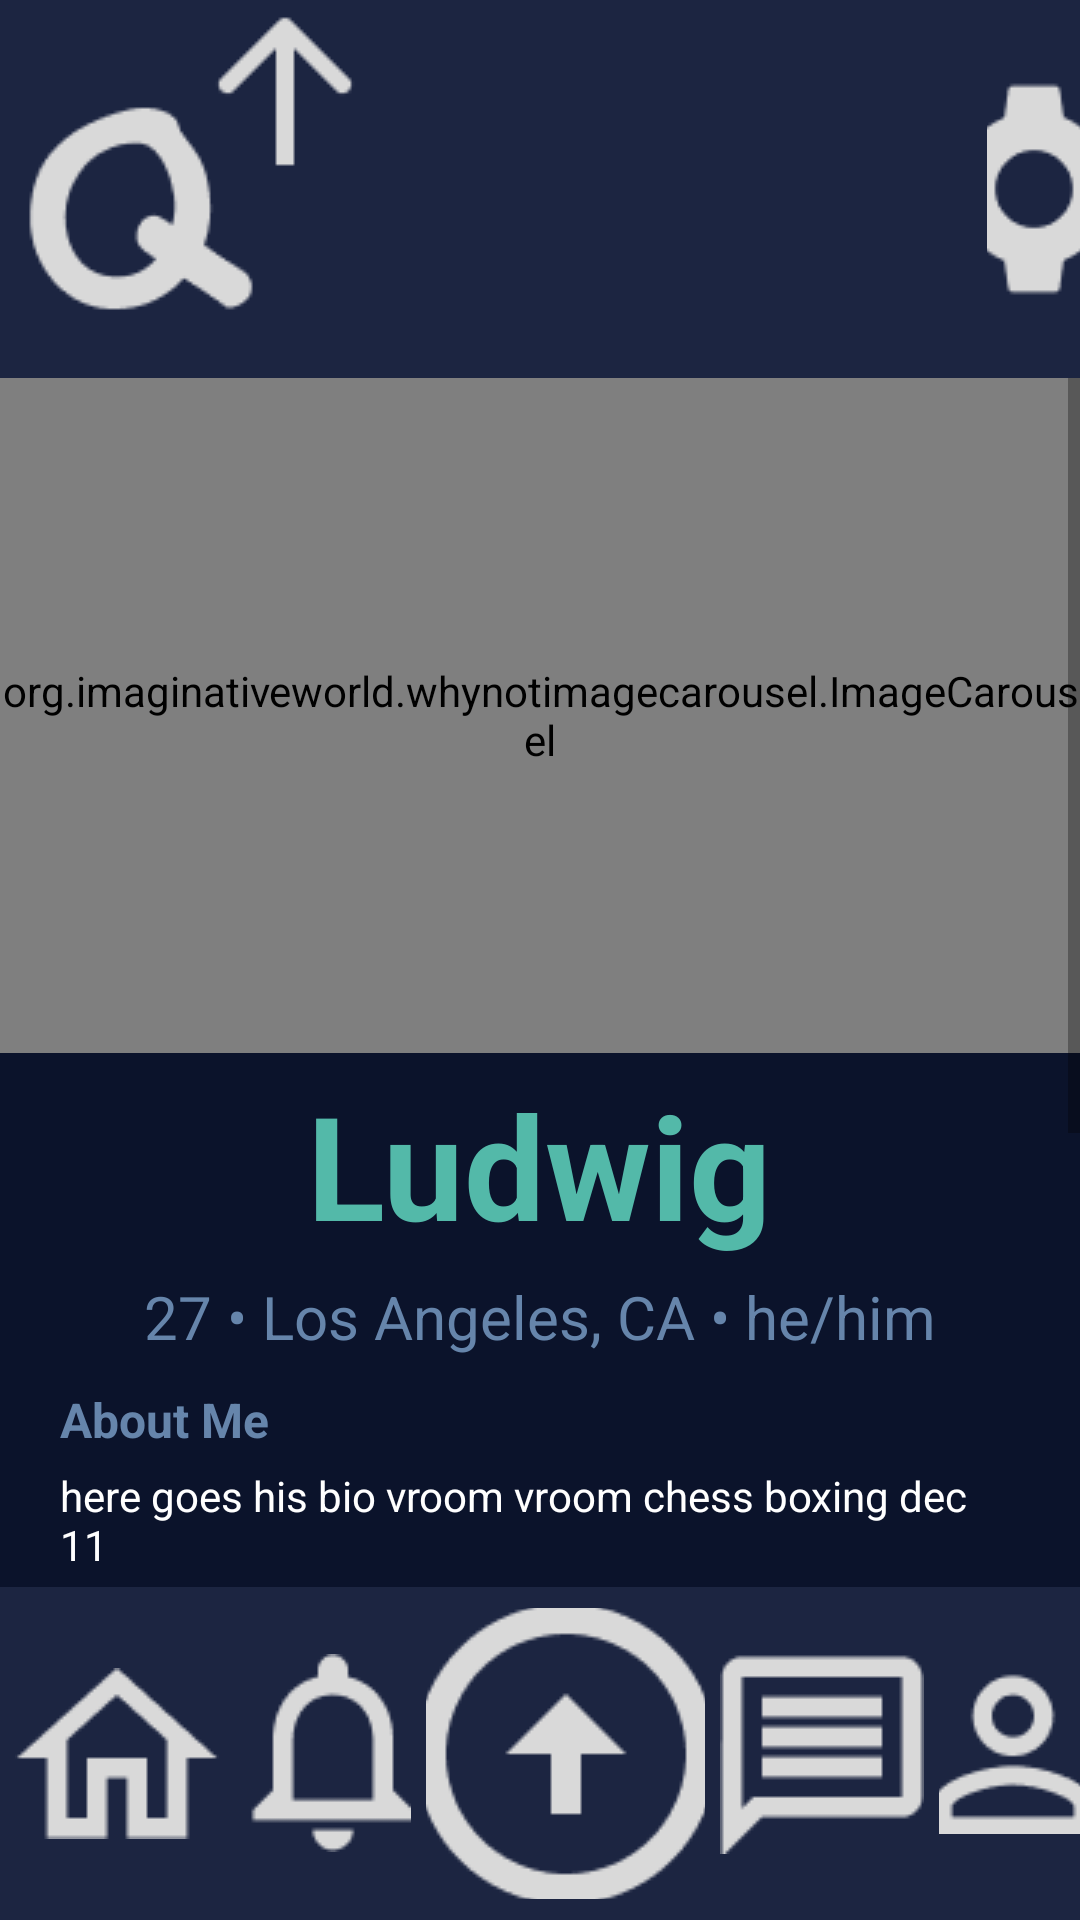

Screen size 1080×1920. Icon name, then its box in pixels as (x1, y1, x2, y2):
home: (17, 1668, 217, 1839)
message: (720, 1655, 924, 1854)
notif: (251, 1654, 411, 1852)
profile: (939, 1674, 1080, 1834)
